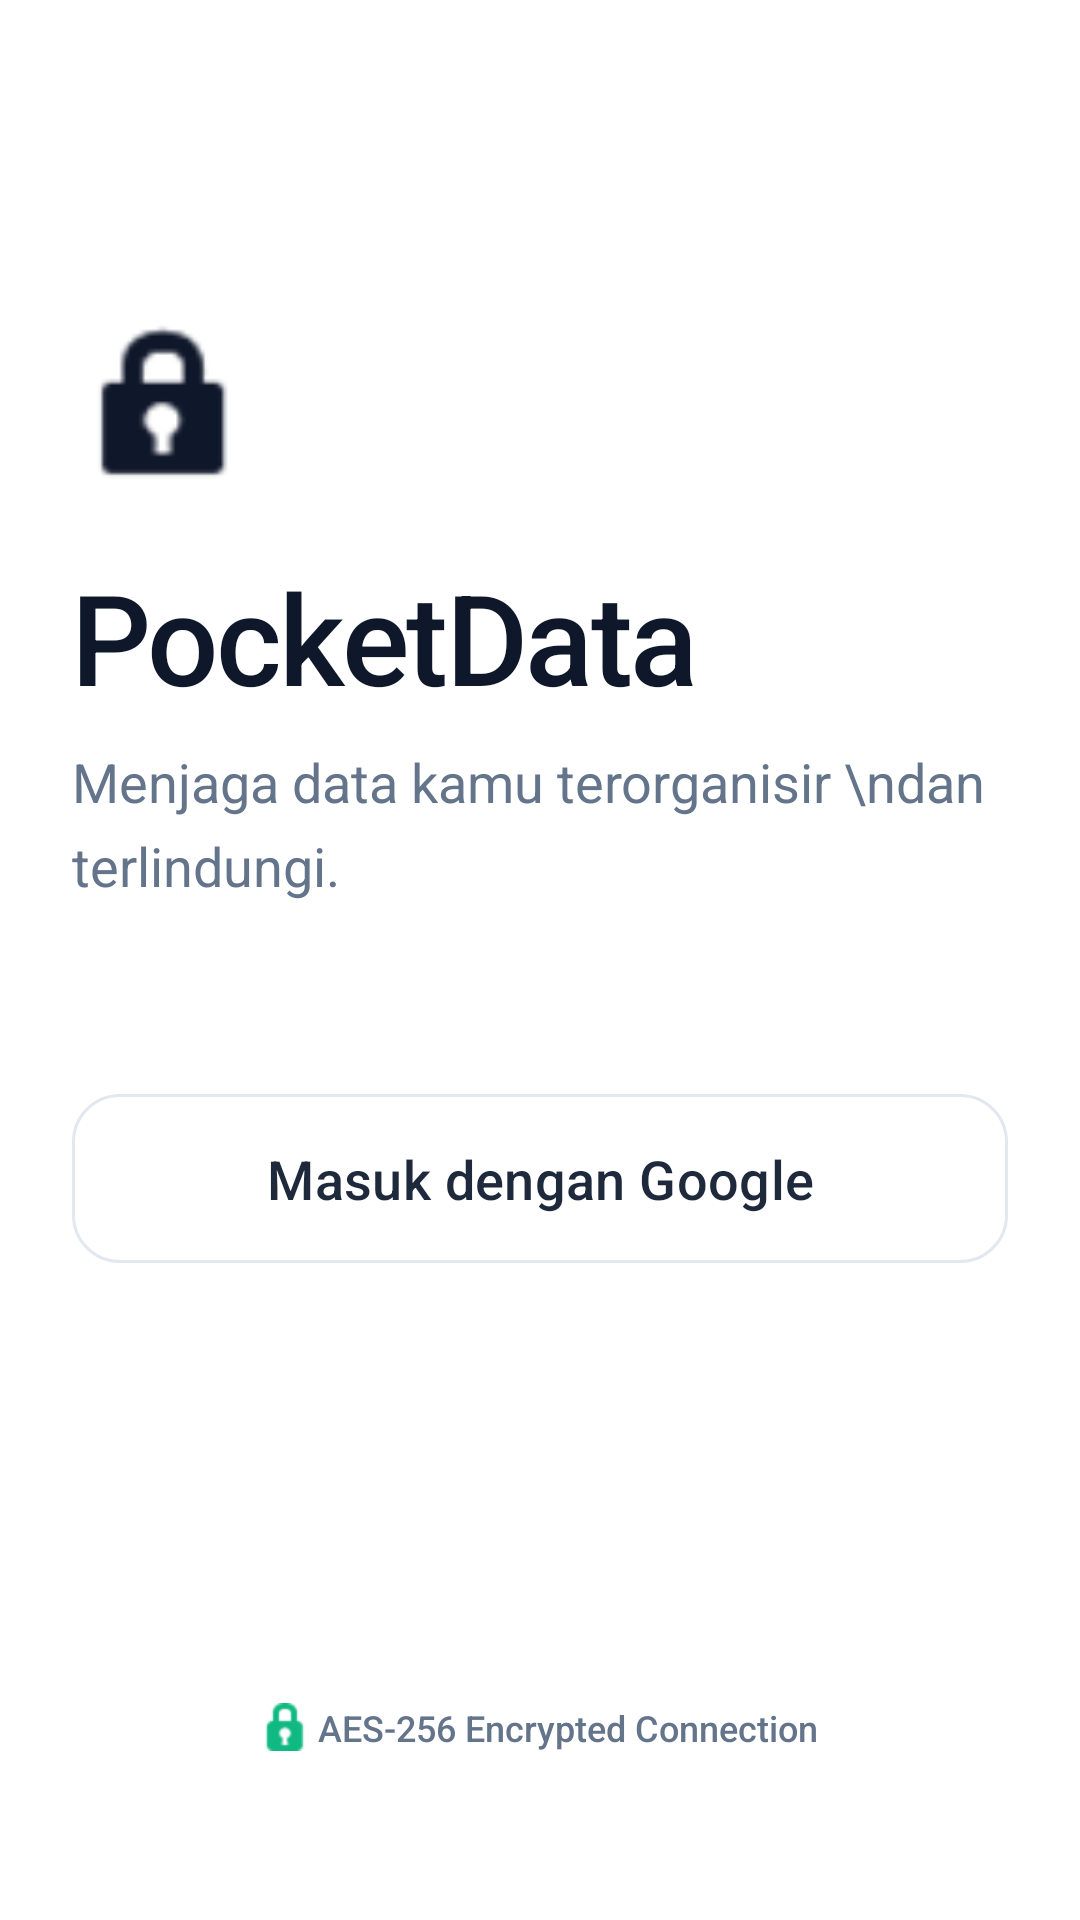

Where to tap for icons on this 1080×1920 app screen, as point (x, y):
lock idle: point (163, 402)
secure: point (285, 1727)
